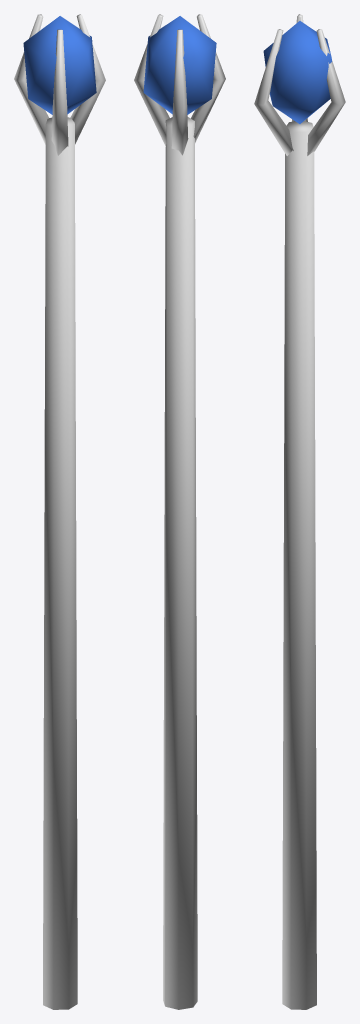
Rendered from sapphire_staff.glb.
3 renders of one model, left to right at view 1: azimuth 30°, elevation 25°; view 2: azimuth 150°, elevation 25°; view 3: azimuth 330°, elevation 25°, orthographic.
Parts seen in each view (by area): view 1: sapphire_staff_v0; view 2: sapphire_staff_v0; view 3: sapphire_staff_v0.
Part boxes in pixels (bbox=[...]): sapphire_staff_v0: bbox=[14, 14, 105, 1009]; sapphire_staff_v0: bbox=[134, 14, 225, 1009]; sapphire_staff_v0: bbox=[254, 14, 345, 1009].
Size of the model in its own units: 0.1164 by 1.46 by 0.1182.
